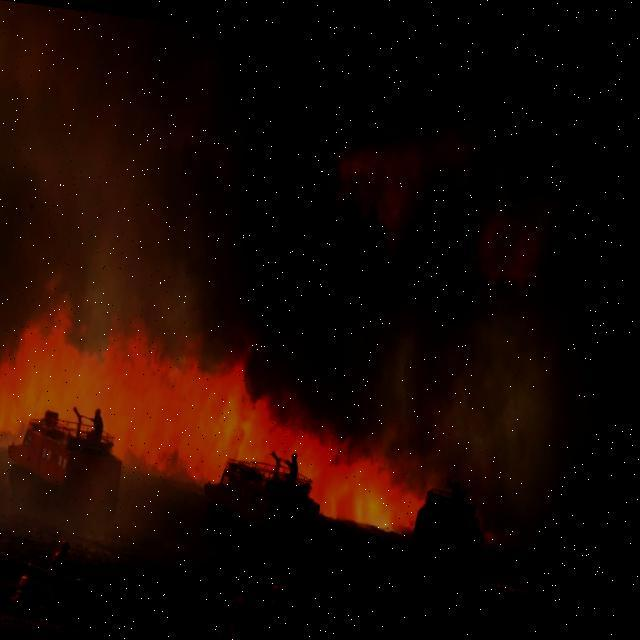Fire: (0, 268, 550, 540)
